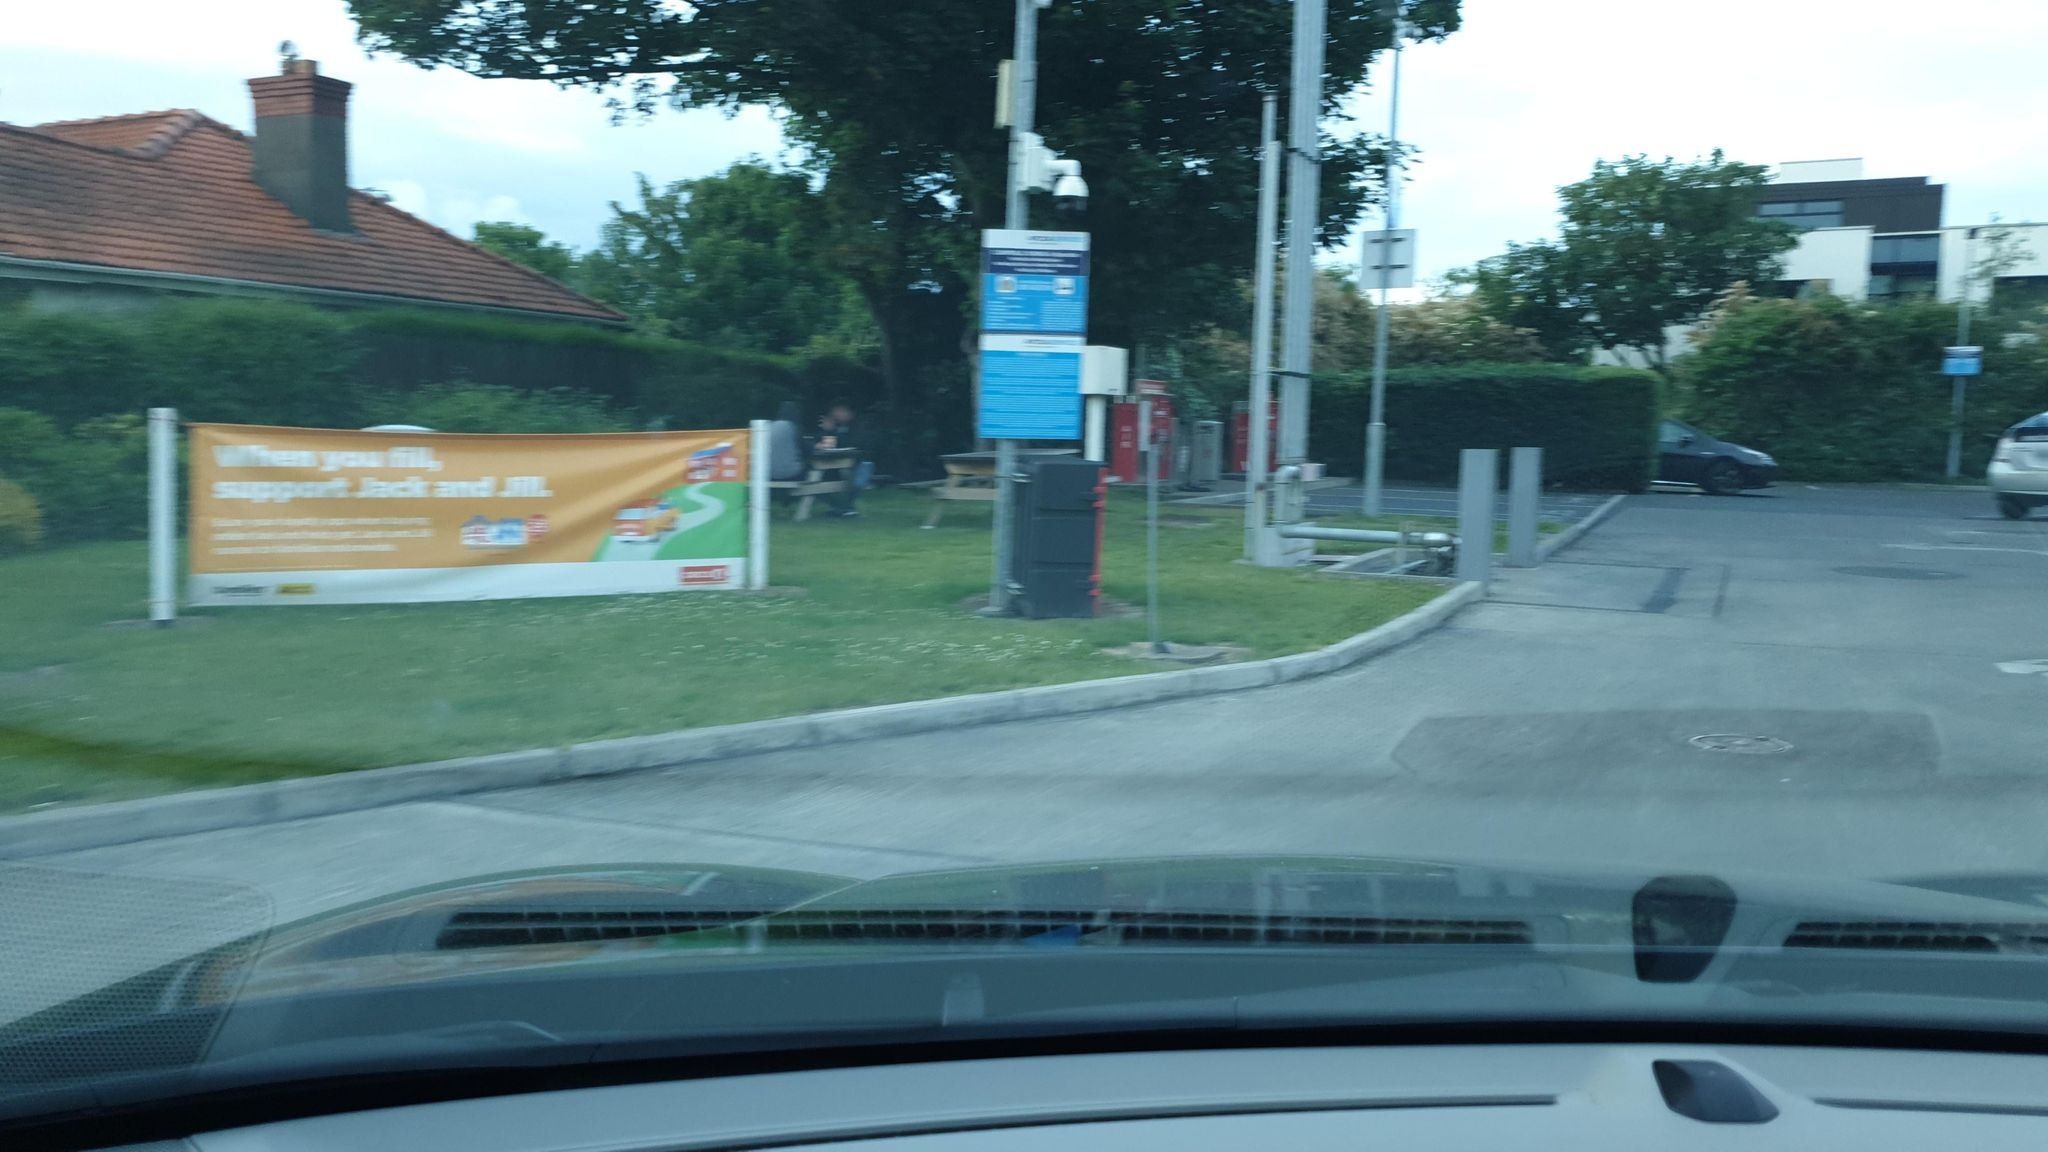vinyl banner: (177, 397, 753, 612)
